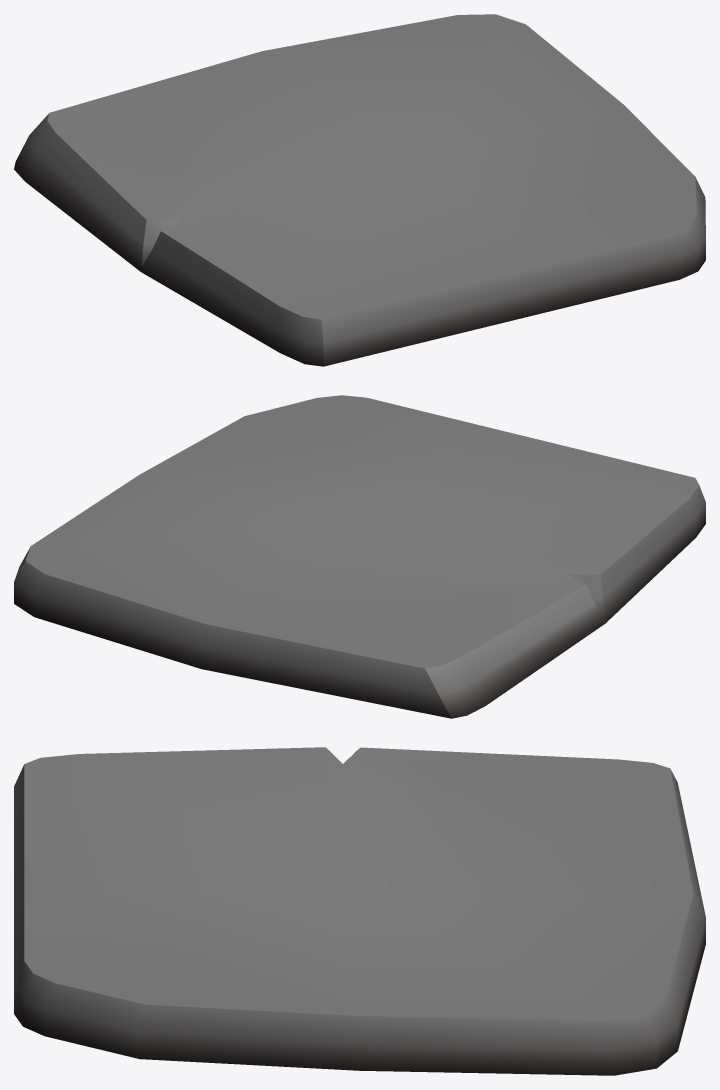
File: WalkRock.001.fbx
3 views of the same model, one above another, from view 1: azimuth 30°, elevation 25°; view 2: azimuth 150°, elevation 25°; view 3: azimuth 270°, elevation 25° (orthographic). The views are drawn at different scales.
Parts seen in each view (by area): view 1: Cube.022; view 2: Cube.022; view 3: Cube.022.
Boxes of the visible parts, x1=… form: Cube.022: x1=14, y1=14, x2=705, y2=366; Cube.022: x1=14, y1=395, x2=705, y2=718; Cube.022: x1=14, y1=747, x2=705, y2=1075.
Bounding box in the file's own units: 47 × 48.19 × 3.91.
